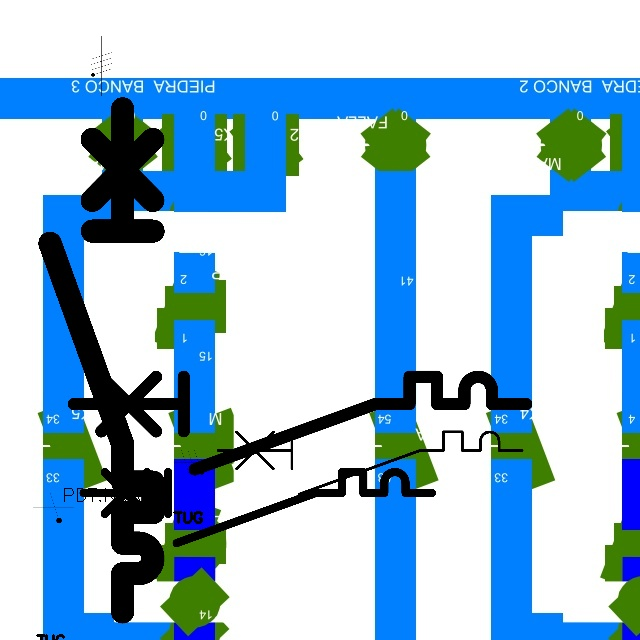interruptor_termomagnetico: (37, 95, 166, 624), (62, 365, 538, 481), (74, 463, 440, 552), (210, 424, 530, 502)
